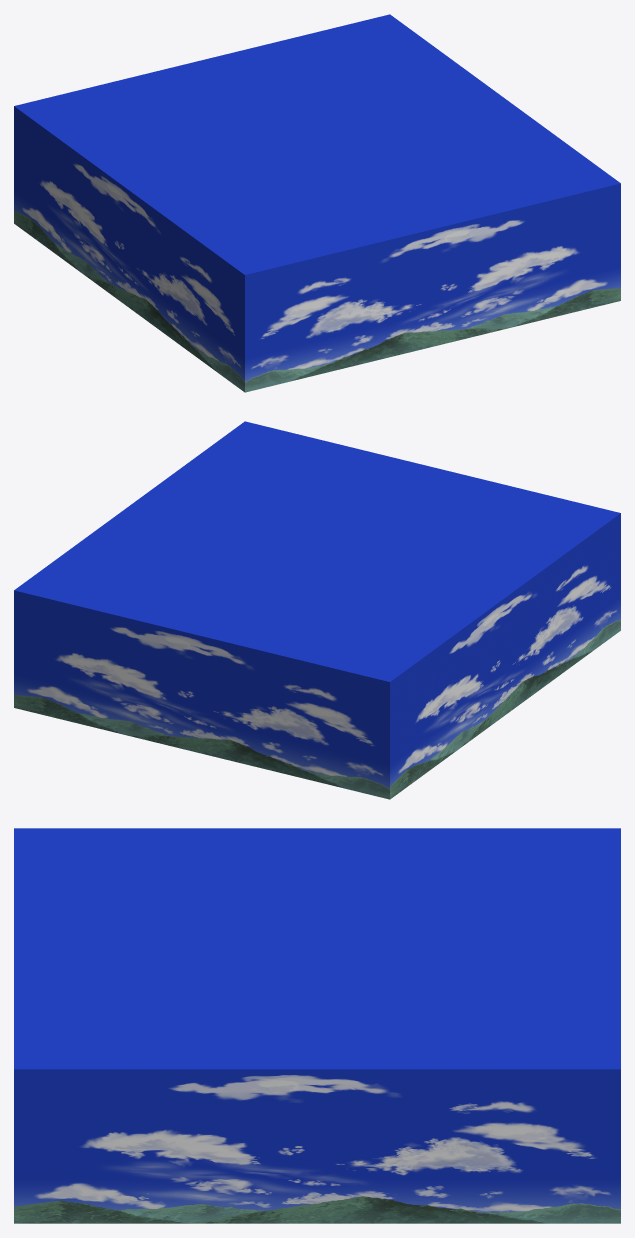
The picture shows the model from 3 angles, top to bottom: view 1: azimuth 30°, elevation 25°; view 2: azimuth 150°, elevation 25°; view 3: azimuth 270°, elevation 25°; orthographic projection. The views are drawn at different scales.
Parts seen in each view (by area): view 1: sky_poly; view 2: sky_poly; view 3: sky_poly.
Boxes of the visible parts, <box> form: sky_poly: <box>14,14,620,392</box>; sky_poly: <box>14,421,620,799</box>; sky_poly: <box>14,828,620,1223</box>.
Size of the model in its own units: 12560 by 3981 by 13362.
